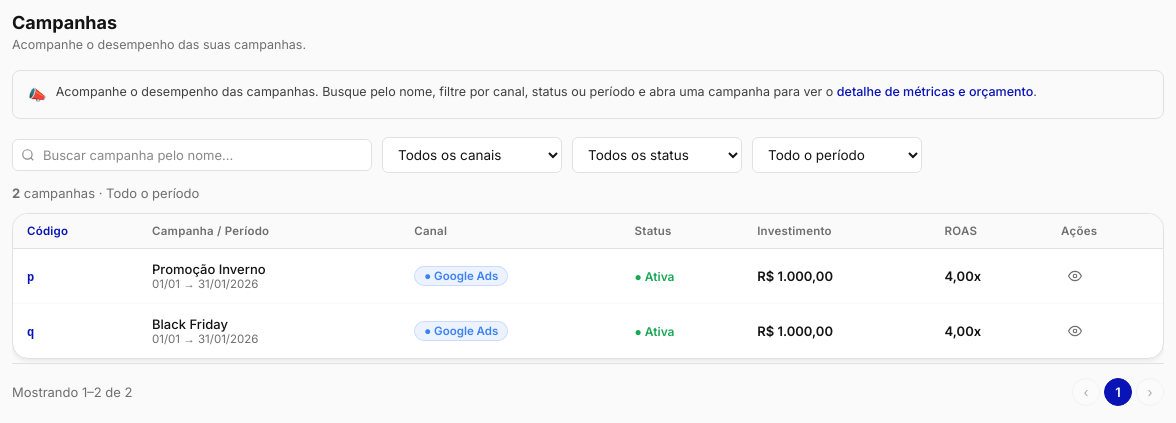
Test: CampaignListScreen › busca pelo nome sem reconsultar, ignorando caixa e acento
This screenshot has width=1176, height=423.
Check: the text "Black Friday" is shown, box 152,316 -> 228,332
Type "PROMOCAO" into the field labelled "Buscar campanha" at x=192, y=155, box 12,139 -> 372,171
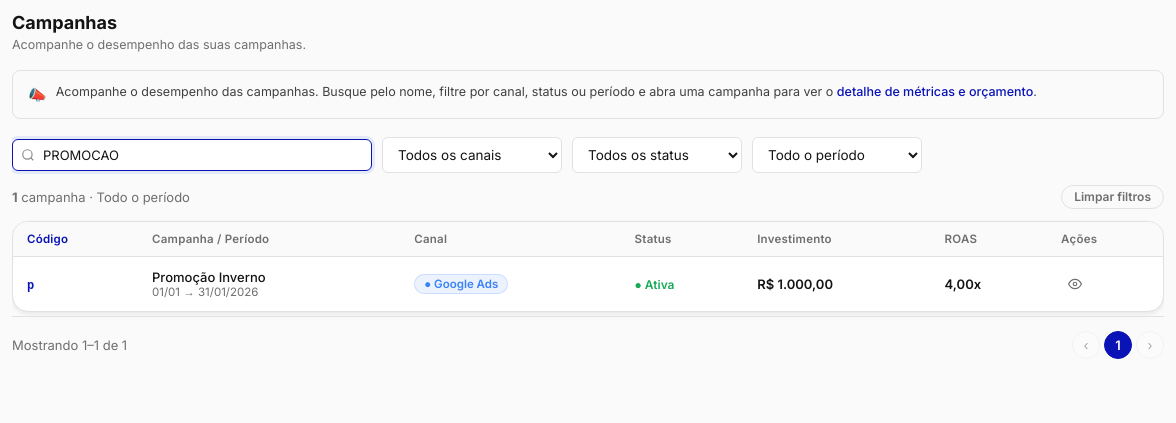
Check: the text "Promoção Inverno" is shown, box 152,269 -> 266,285
Check: the text "Black Friday" is gone
Check: the text "1 campanha · Todo o período" is shown, box 12,189 -> 190,205
